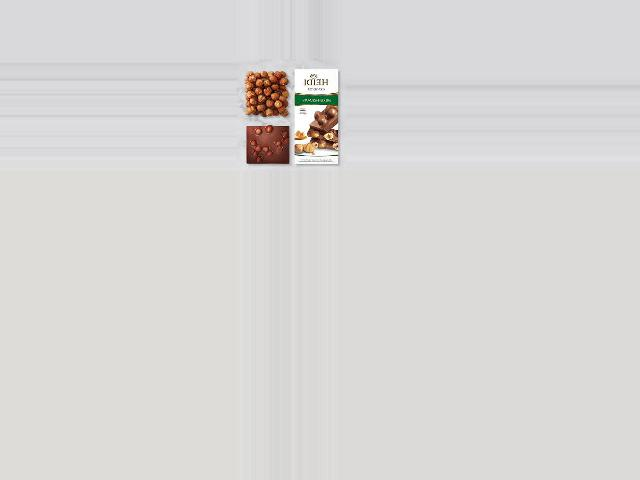chocolate: (241, 125, 291, 166)
